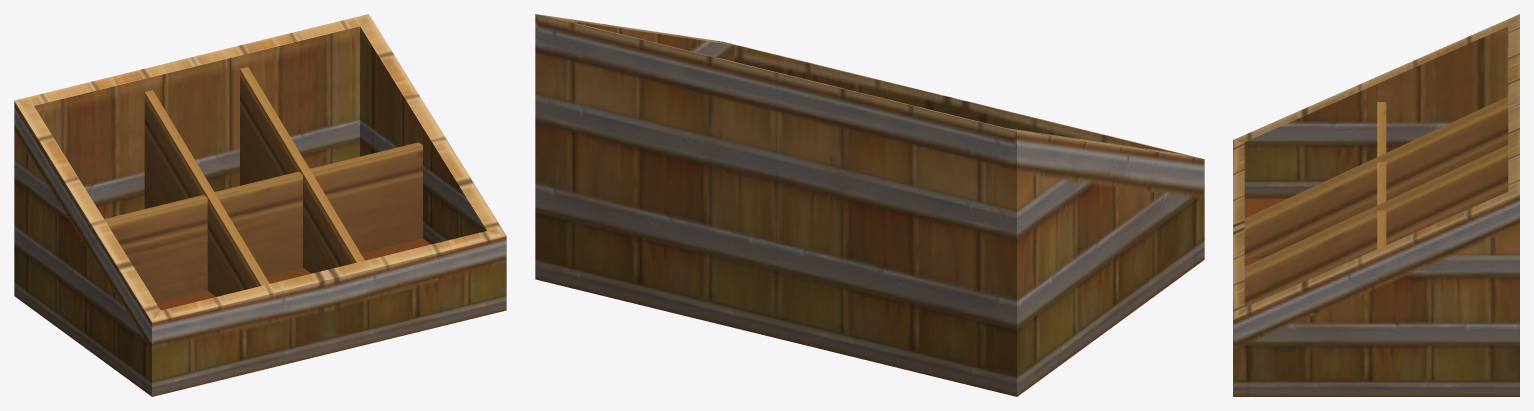
File: zhucheng_mugui_1.FBX
3 renders of one model, left to right at view 1: azimuth 30°, elevation 25°; view 2: azimuth 150°, elevation 25°; view 3: azimuth 270°, elevation 25°, orthographic. The views are drawn at different scales.
Visible parts, largest first — view 1: zhucheng_mugui_1; view 2: zhucheng_mugui_1; view 3: zhucheng_mugui_1.
Boxes of the visible parts, x1,y1,x2,y2 form: zhucheng_mugui_1: (14,14,506,396); zhucheng_mugui_1: (535,14,1204,396); zhucheng_mugui_1: (1233,14,1519,396).
Size of the model in its own units: 167 by 87.89 by 112.
